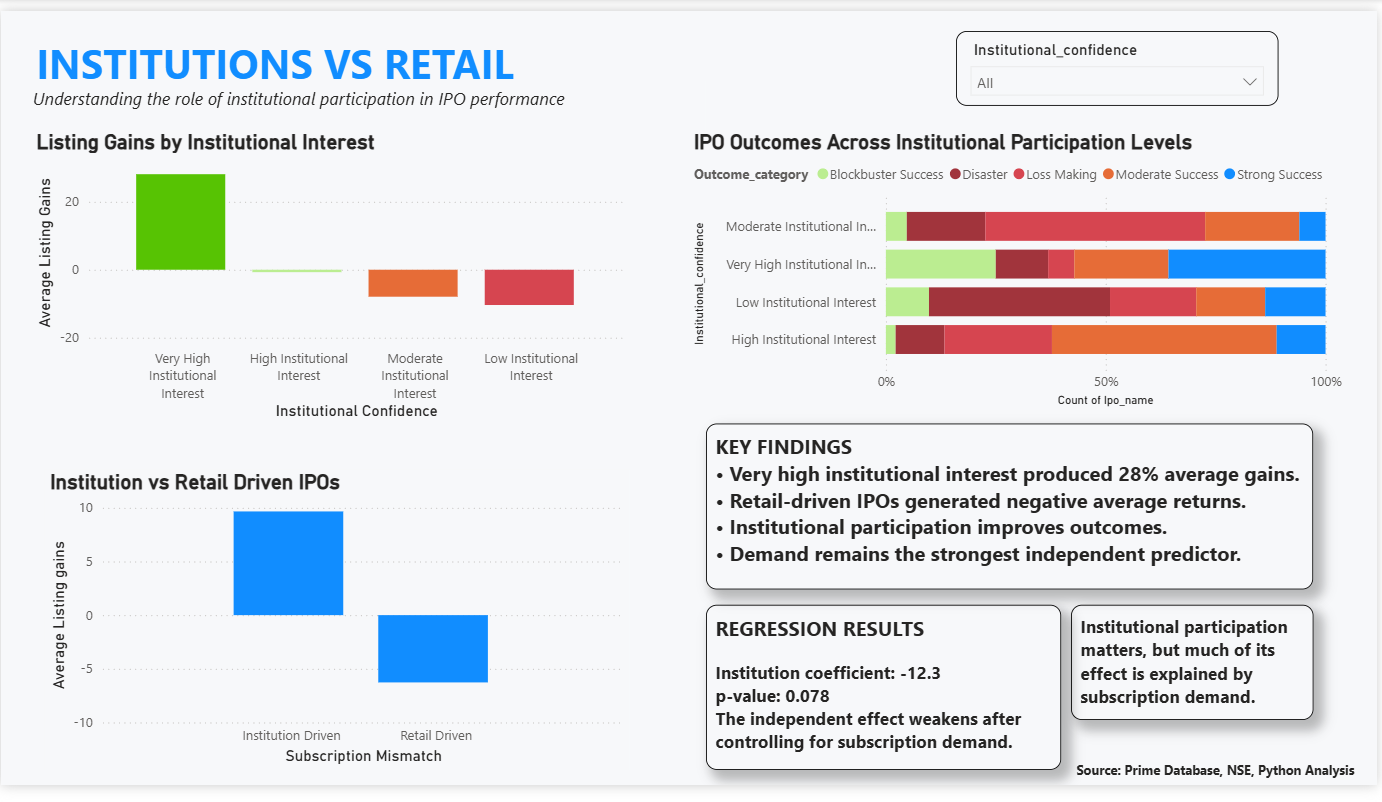

The page's visual inventory and layout, read from the dashboard file:
{"tool":"powerbi","page":{"name":"Institutions vs Retail","canvas":[1280,720],"ordinal":2},"visuals":[{"type":"columnChart","title":"Institution vs Retail Driven IPOs","fields":{"Category":["Dashboard_data.Subscription_mismatch"],"Y":["Avg(Dashboard_data.Listing_gains_percent)"]},"box":[40.7,426.7,544.2,279.1],"z":0},{"type":"columnChart","title":"Listing Gains by Institutional Interest","fields":{"Category":["Dashboard_data.Institutional_confidence"],"Y":["Avg(Dashboard_data.Listing_gains_percent)"]},"box":[27.9,110.5,557,274.4],"z":1000},{"type":"hundredPercentStackedBarChart","title":"IPO Outcomes Across Institutional Participation Levels","fields":{"Series":["Dashboard_data.Outcome_category"],"Category":["Dashboard_data.Institutional_confidence"],"Y":["CountNonNull(Dashboard_data.Ipo_name)"]},"box":[639.5,110.5,612.8,262.8],"z":2000},{"type":"textbox","box":[655.8,383.7,565.1,154.7],"z":3000},{"type":"textbox","box":[655.8,552.3,330.2,153.5],"z":4000},{"type":"textbox","box":[995.3,552.3,225.6,107],"z":5000},{"type":"textbox","box":[995.3,691.9,284.9,27.9],"z":6000},{"type":"textbox","box":[27.9,18.6,645.3,69.8],"z":7000},{"type":"textbox","box":[24.4,65.1,631.4,45.3],"z":8000},{"type":"slicer","fields":{"Values":["Dashboard_data.Institutional_confidence"]},"box":[888.4,18.6,300,69.8],"z":8001}]}

Visuals, with their boxes on the page's 1280x720 design canvas (x1, y1, x2, y2). These are canvas units, not pixel positions in the 1382x802 screenshot, which may show the page scaled, cropped or inside an application window:
"Institution vs Retail Driven IPOs" columnChart: [41, 427, 585, 706]
"Listing Gains by Institutional Interest" columnChart: [28, 110, 585, 385]
"IPO Outcomes Across Institutional Participation Levels" hundredPercentStackedBarChart: [640, 110, 1252, 373]
textbox: [656, 384, 1221, 538]
textbox: [656, 552, 986, 706]
textbox: [995, 552, 1221, 659]
textbox: [995, 692, 1280, 720]
textbox: [28, 19, 673, 88]
textbox: [24, 65, 656, 110]
slicer - Dashboard_data.Institutional_confidence: [888, 19, 1188, 88]
